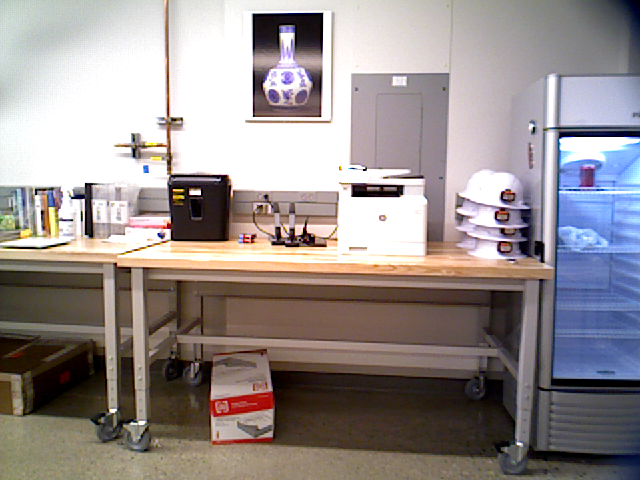painting2: (249, 11, 327, 119)
